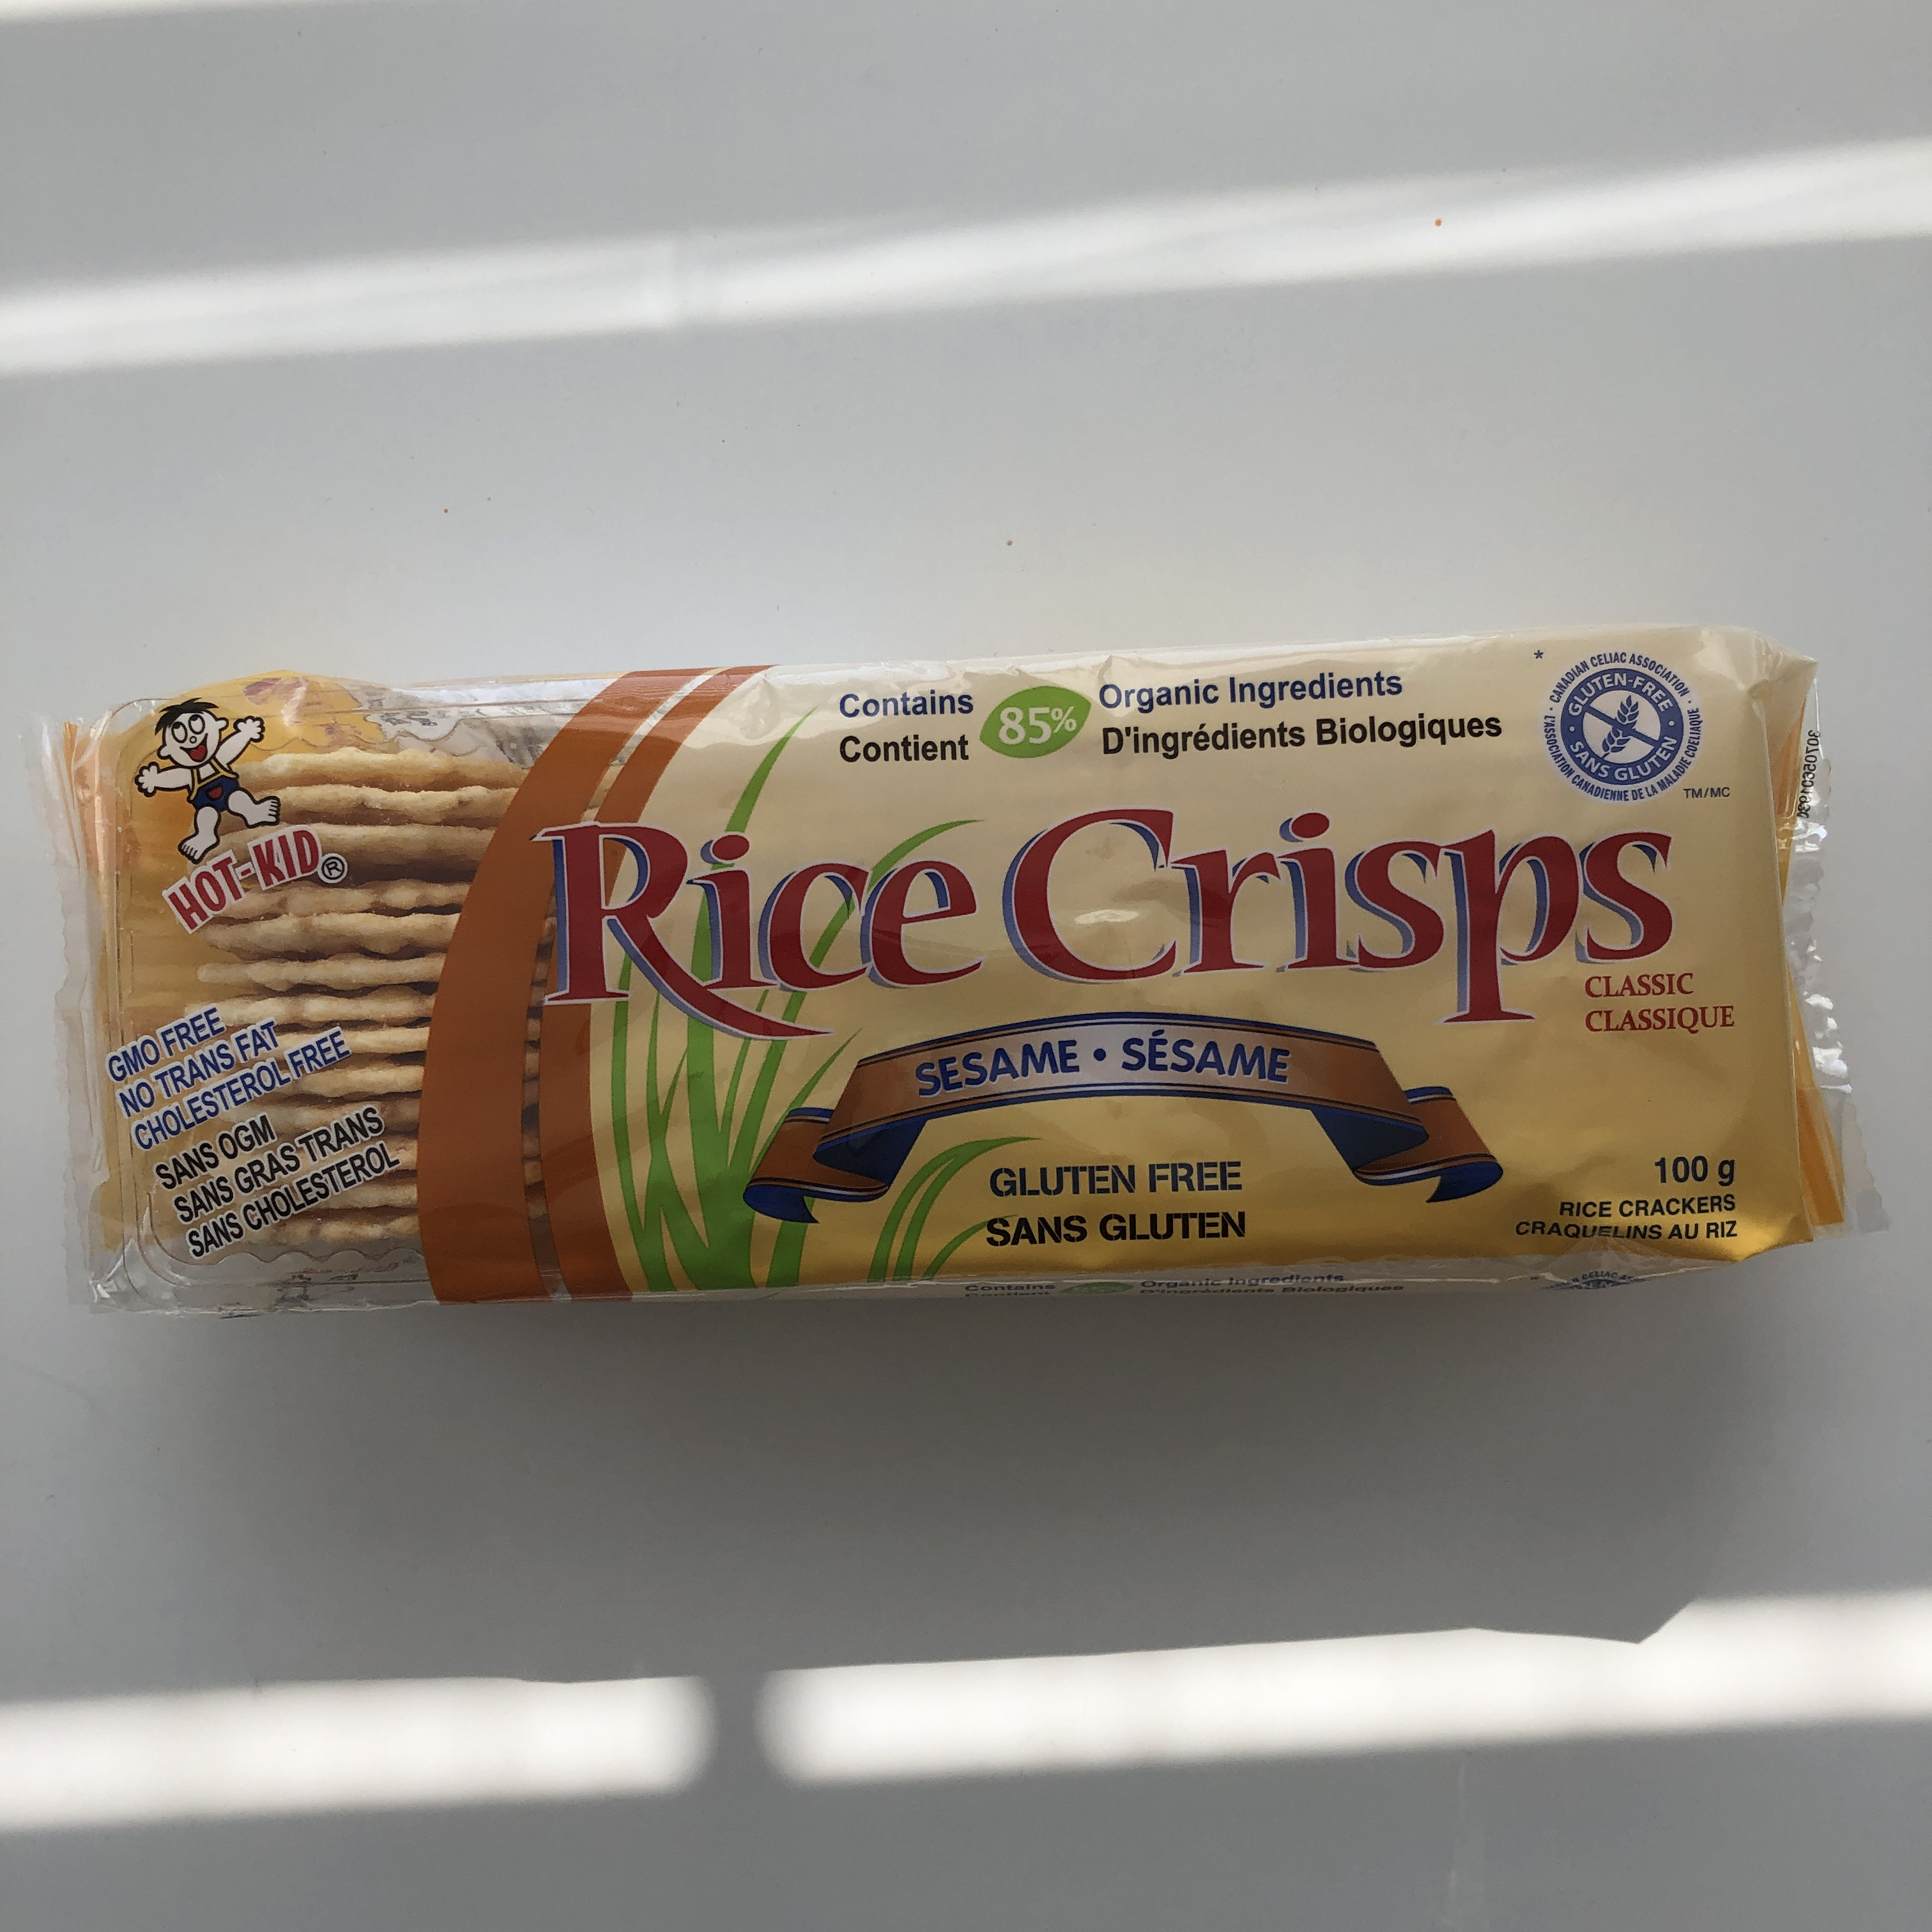hot_kid_rice_crisps_sesame: (648, 91, 1324, 1840)
